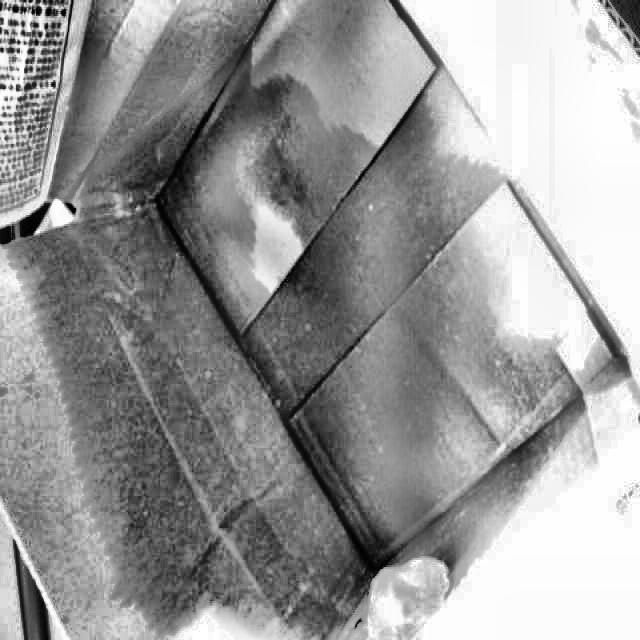box: (0, 4, 640, 640)
wet: (106, 141, 564, 639)
